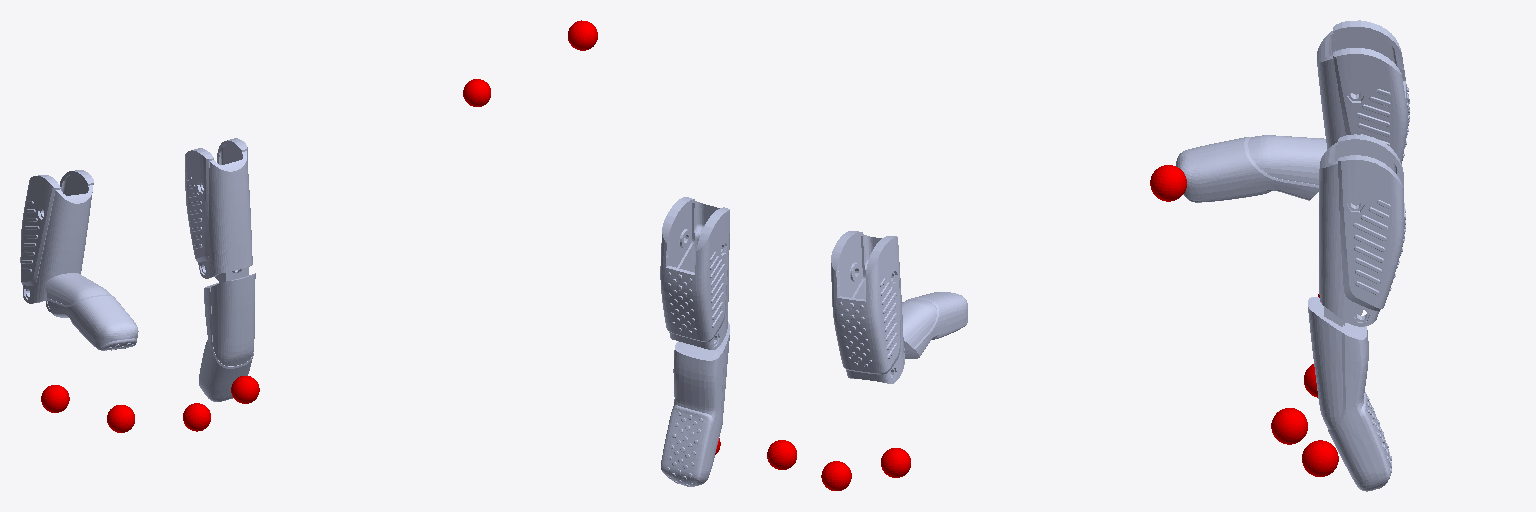
The robot description file, URDF, robot "inspire_floating":
<?xml version="1.0" ?>
<!-- inspire_hand_right.urdf with floating base (x,y,z,rx,ry,rz) for cuRobo collision check -->
<robot name="inspire_floating">
  <link name="world"/>
  <joint name="world_joint" type="fixed">
    <parent link="world"/>
    <child link="inspire_root0"/>
    <origin rpy="0 0 0" xyz="0 0 0"/>
  </joint>

  <link name="inspire_root0">
    <inertial>
      <origin rpy="0 0 0" xyz="0 0 0"/>
      <mass value="4.0"/>
      <inertia ixx="1e-3" ixy="0" ixz="0" iyy="1e-3" iyz="0" izz="1e-3"/>
    </inertial>
  </link>
  <link name="inspire_root1">
    <inertial><mass value="0.05"/><inertia ixx="1e-4" ixy="0" ixz="0" iyy="1e-4" iyz="0" izz="1e-4"/></inertial>
  </link>
  <link name="inspire_root2">
    <inertial><mass value="0.05"/><inertia ixx="1e-4" ixy="0" ixz="0" iyy="1e-4" iyz="0" izz="1e-4"/></inertial>
  </link>
  <link name="inspire_root3">
    <inertial><mass value="0.05"/><inertia ixx="1e-4" ixy="0" ixz="0" iyy="1e-4" iyz="0" izz="1e-4"/></inertial>
  </link>
  <link name="inspire_root4">
    <inertial><mass value="0.05"/><inertia ixx="1e-4" ixy="0" ixz="0" iyy="1e-4" iyz="0" izz="1e-4"/></inertial>
  </link>
  <link name="inspire_root5">
    <inertial><mass value="0.05"/><inertia ixx="1e-4" ixy="0" ixz="0" iyy="1e-4" iyz="0" izz="1e-4"/></inertial>
  </link>

  <joint name="x_joint" type="prismatic">
    <parent link="inspire_root0"/>
    <child link="inspire_root1"/>
    <axis xyz="1 0 0"/>
    <limit effort="100" lower="-50.0" upper="50.0" velocity="20"/>
  </joint>
  <joint name="y_joint" type="prismatic">
    <parent link="inspire_root1"/>
    <child link="inspire_root2"/>
    <axis xyz="0 1 0"/>
    <limit effort="100" lower="-50.0" upper="50.0" velocity="20"/>
  </joint>
  <joint name="z_joint" type="prismatic">
    <parent link="inspire_root2"/>
    <child link="inspire_root3"/>
    <axis xyz="0 0 1"/>
    <limit effort="100" lower="-50.0" upper="50.0" velocity="20"/>
  </joint>
  <joint name="x_rotation_joint" type="revolute">
    <parent link="inspire_root3"/>
    <child link="inspire_root4"/>
    <axis xyz="1 0 0"/>
    <limit effort="100" lower="-6.28" upper="6.28" velocity="20"/>
  </joint>
  <joint name="y_rotation_joint" type="revolute">
    <parent link="inspire_root4"/>
    <child link="inspire_root5"/>
    <axis xyz="0 1 0"/>
    <limit effort="100" lower="-6.28" upper="6.28" velocity="20"/>
  </joint>
  <joint name="z_rotation_joint" type="revolute">
    <parent link="inspire_root5"/>
    <child link="wrist"/>
    <axis xyz="0 0 1"/>
    <limit effort="100" lower="-6.28" upper="6.28" velocity="20"/>
  </joint>

  <!-- Left inspire hand -->
<link name="wrist" />

    <joint name="L_hand_base_joint" type="fixed">
      <origin xyz="0 0 0" rpy="0 0 0" />
      <parent link="wrist" />
      <child link="base_link" />
    </joint>
  
  <link name="base_link">
    <inertial>
      <origin xyz="-5.81855257230368E-05 0.0036855956860619 -0.0826153899028331" rpy="0 0 0" />
      <mass value="0.260034351097693" />
      <inertia ixx="0.000223659755666589" ixy="-1.13436481934473E-06" ixz="5.34309354519849E-07" iyy="0.000266799681483547" iyz="1.40944118648867E-05" izz="0.000132857769181899" />
    </inertial>
    <visual>
      <origin xyz="0 0 0" rpy="0 0 0" />
      <geometry>
        <mesh filename="./meshes/left_base_link.STL" />
      </geometry>
      <material name="">
        <color rgba="0.792156862745098 0.819607843137255 0.933333333333333 1" />
      </material>
    </visual>
    <collision>
      <origin xyz="0 0 0" rpy="0 0 0" />
      <geometry>
        <mesh filename="./meshes/left_base_link.STL" />
      </geometry>
    </collision>
  </link>
  <link name="left_thumb_1">
    <inertial>
      <origin xyz="0.00178423404495211 -0.000649404577309123 -0.0031358931043441" rpy="0 0 0" />
      <mass value="0.00115518743162309" />
      <inertia ixx="5.98912200501135E-08" ixy="-8.04315731947437E-09" ixz="-3.29346919841095E-09" iyy="4.07201234589857E-08" iyz="1.19872544716431E-09" izz="6.18161684388651E-08" />
    </inertial>
    <visual>
      <origin xyz="0 0 0" rpy="0 0 0" />
      <geometry>
        <mesh filename="./meshes/left_thumb_1.STL" />
      </geometry>
      <material name="">
        <color rgba="0.792156862745098 0.819607843137255 0.933333333333333 1" />
      </material>
    </visual>
    <collision>
      <origin xyz="0 0 0" rpy="0 0 0" />
      <geometry>
        <mesh filename="./meshes/left_thumb_1.STL" />
      </geometry>
    </collision>
  </link>
  <joint name="left_thumb_1_joint" type="revolute">
    <origin xyz="0.0269 -0.02101 -0.07075" rpy="0 0 0" />
    <parent link="base_link" />
    <child link="left_thumb_1" />
    <axis xyz="0 0 -1" />
    <limit lower="0" upper="1.15" effort="10" velocity="1" />
  </joint>
  <link name="left_thumb_2">
    <inertial>
      <origin xyz="0.0141077165126408 0.013272947664556 0.00905027694248729" rpy="0 0 0" />
      <mass value="0.016" />
      <inertia ixx="1.06585698719649E-06" ixy="-7.62263321516971E-08" ixz="2.95033226564006E-11" iyy="1.06558155578278E-06" iyz="1.55271585897891E-11" izz="1.39709651951733E-06" />
    </inertial>
    <visual>
      <origin xyz="0 0 0" rpy="0 0 0" />
      <geometry>
        <mesh filename="./meshes/left_thumb_2.STL" />
      </geometry>
      <material name="">
        <color rgba="0.792156862745098 0.819607843137255 0.933333333333333 1" />
      </material>
    </visual>
    <collision>
      <origin xyz="0 0 0" rpy="0 0 0" />
      <geometry>
        <mesh filename="./meshes/left_thumb_2.STL" />
      </geometry>
    </collision>
  </link>
  <joint name="left_thumb_2_joint" type="revolute">
    <origin xyz="0.0063016 -0.011924 -0.00125" rpy="-1.5708 0 -0.34907" />
    <parent link="left_thumb_1" />
    <child link="left_thumb_2" />
    <axis xyz="0 0 1" />
    <limit lower="0" upper="0.55" effort="10" velocity="1" />
  </joint>
  <link name="left_thumb_3">
    <inertial>
      <origin xyz="0.0175210608796189 -0.000458783419545392 0.00589186777098984" rpy="0 0 0" />
      <mass value="0.012" />
      <inertia ixx="4.67948369620491E-07" ixy="-4.4974688607358E-08" ixz="1.01425359574474E-11" iyy="3.98794196148187E-07" iyz="2.07037920898898E-10" izz="4.24723917424999E-07" />
    </inertial>
    <visual>
      <origin xyz="0 0 0" rpy="0 0 0" />
      <geometry>
        <mesh filename="./meshes/left_thumb_3.STL" />
      </geometry>
      <material name="">
        <color rgba="0.792156862745098 0.819607843137255 0.933333333333333 1" />
      </material>
    </visual>
    <collision>
      <origin xyz="0 0 0" rpy="0 0 0" />
      <geometry>
        <mesh filename="./meshes/left_thumb_3.STL" />
      </geometry>
    </collision>
  </link>
  <joint name="left_thumb_3_joint" type="revolute">
    <origin xyz="0.026828 0.02583 0.00315" rpy="0 0 0" />
    <parent link="left_thumb_2" />
    <child link="left_thumb_3" />
    <axis xyz="0 0 1" />
    <limit lower="0" upper="3.14" effort="10" velocity="1" />
    <mimic joint="left_thumb_2_joint" multiplier="0.60" offset="0" />
  </joint>
  <link name="left_thumb_4">
    <inertial>
      <origin xyz="0.0159972574626049 0.0063105797700872 0.0073433144647696" rpy="0 0 0" />
      <mass value="0.01" />
      <inertia ixx="6.4362640059723E-07" ixy="-2.57376746969386E-07" ixz="-8.63129696542143E-10" iyy="7.63678708562786E-07" iyz="-7.21288836303217E-10" izz="9.2570163408105E-07" />
    </inertial>
    <visual>
      <origin xyz="0 0 0" rpy="0 0 0" />
      <geometry>
        <mesh filename="./meshes/left_thumb_4.STL" />
      </geometry>
      <material name="">
        <color rgba="0.792156862745098 0.819607843137255 0.933333333333333 1" />
      </material>
    </visual>
    <collision>
      <origin xyz="0 0 0" rpy="0 0 0" />
      <geometry>
        <mesh filename="./meshes/left_thumb_4.STL" />
      </geometry>
    </collision>
  </link>
  <joint name="left_thumb_4_joint" type="revolute">
    <origin xyz="0.027027 0.0069965 -0.00145" rpy="0 0 0" />
    <parent link="left_thumb_3" />
    <child link="left_thumb_4" />
    <axis xyz="0 0 1" />
    <limit lower="0" upper="3.14" effort="10" velocity="1" />
    <mimic joint="left_thumb_2_joint" multiplier="0.8" offset="0" />
  </joint>
  <link name="left_index_1">
    <inertial>
      <origin xyz="-0.00183599258071257 0.0123544163382434 -0.00665152565125451" rpy="0 0 0" />
      <mass value="0.0071995003148682" />
      <inertia ixx="1.28363093823079E-06" ixy="4.22091506924093E-08" ixz="-1.1741465013013E-12" iyy="5.79447850871435E-07" iyz="-8.63816965731366E-11" izz="1.32914845722975E-06" />
    </inertial>
    <visual>
      <origin xyz="0 0 0" rpy="0 0 0" />
      <geometry>
        <mesh filename="./meshes/left_index_1.STL" />
      </geometry>
      <material name="">
        <color rgba="0.792156862745098 0.819607843137255 0.933333333333333 1" />
      </material>
    </visual>
    <collision>
      <origin xyz="0 0 0" rpy="0 0 0" />
      <geometry>
        <mesh filename="./meshes/left_index_1.STL" />
      </geometry>
    </collision>
  </link>
  <joint name="left_index_1_joint" type="revolute">
    <origin xyz="0.025387 -0.00056467 -0.15686" rpy="-1.6057 0 1.5708" />
    <parent link="base_link" />
    <child link="left_index_1" />
    <axis xyz="0 0 1" />
    <limit lower="0" upper="1.6" effort="10" velocity="1" />
  </joint>
  <link name="left_index_2">
    <inertial>
      <origin xyz="0.000405420051948283 0.0257003783460073 -0.00610830787560272" rpy="0 0 0" />
      <mass value="0.00968688267109518" />
      <inertia ixx="2.25563043691857E-06" ixy="4.11282885240034E-07" ixz="3.87338024122588E-10" iyy="3.91279806505403E-07" iyz="-2.76559043550419E-09" izz="2.30247359295784E-06" />
    </inertial>
    <visual>
      <origin xyz="0 0 0" rpy="0 0 0" />
      <geometry>
        <mesh filename="./meshes/left_index_2.STL" />
      </geometry>
      <material name="">
        <color rgba="0.792156862745098 0.819607843137255 0.933333333333333 1" />
      </material>
    </visual>
    <collision>
      <origin xyz="0 0 0" rpy="0 0 0" />
      <geometry>
        <mesh filename="./meshes/left_index_2.STL" />
      </geometry>
    </collision>
  </link>
  <joint name="left_index_2_joint" type="revolute">
    <origin xyz="-0.0016312 0.032734 -0.00055" rpy="0 0 0" />
    <parent link="left_index_1" />
    <child link="left_index_2" />
    <axis xyz="0 0 1" />
    <limit lower="0" upper="3.14" effort="10" velocity="1.1" />
    <mimic joint="left_index_1_joint" multiplier="1.05" offset="0" />
  </joint>
  <link name="left_middle_1">
    <inertial>
      <origin xyz="-0.00229271394242232 0.0122778605414752 -0.00665151068667683" rpy="0 0 0" />
      <mass value="0.00719950322487974" />
      <inertia ixx="1.27951858905779E-06" ixy="6.81813021711596E-08" ixz="1.58551121583499E-12" iyy="5.83543537428452E-07" iyz="-8.56179612608701E-11" izz="1.32913234511164E-06" />
    </inertial>
    <visual>
      <origin xyz="0 0 0" rpy="0 0 0" />
      <geometry>
        <mesh filename="./meshes/left_middle_1.STL" />
      </geometry>
      <material name="">
        <color rgba="0.792156862745098 0.819607843137255 0.933333333333333 1" />
      </material>
    </visual>
    <collision>
      <origin xyz="0 0 0" rpy="0 0 0" />
      <geometry>
        <mesh filename="./meshes/left_middle_1.STL" />
      </geometry>
    </collision>
  </link>
  <joint name="left_middle_1_joint" type="revolute">
    <origin xyz="0.0037996 -0.00056467 -0.157" rpy="-1.5708 0 1.5708" />
    <parent link="base_link" />
    <child link="left_middle_1" />
    <axis xyz="0 0 1" />
    <limit lower="0" upper="1.6" effort="10" velocity="1" />
  </joint>
  <link name="left_middle_2">
    <inertial>
      <origin xyz="7.51983994427274E-05 0.027448753770842 -0.00610022997575017" rpy="0 0 0" />
      <mass value="0.0104611931926301" />
      <inertia ixx="2.75831931773332E-06" ixy="4.66412841401028E-07" ixz="7.35766561775226E-12" iyy="4.22466538741155E-07" iyz="-1.79608426686769E-11" izz="2.80722617348706E-06" />
    </inertial>
    <visual>
      <origin xyz="0 0 0" rpy="0 0 0" />
      <geometry>
        <mesh filename="./meshes/left_middle_2.STL" />
      </geometry>
      <material name="">
        <color rgba="0.792156862745098 0.819607843137255 0.933333333333333 1" />
      </material>
    </visual>
    <collision>
      <origin xyz="0 0 0" rpy="0 0 0" />
      <geometry>
        <mesh filename="./meshes/left_middle_2.STL" />
      </geometry>
    </collision>
  </link>
  <joint name="left_middle_2_joint" type="revolute">
    <origin xyz="-0.0028436 0.032651 -0.00055" rpy="0 0 0" />
    <parent link="left_middle_1" />
    <child link="left_middle_2" />
    <axis xyz="0 0 1" />
    <limit lower="0" upper="3.14" effort="10" velocity="1.1" />
    <mimic joint="left_middle_1_joint" multiplier="0.88" offset="0.15" />
  </joint>
  <link name="left_ring_1">
    <inertial>
      <origin xyz="-0.00240530428455066 0.0122563079467745 -0.00665150968297497" rpy="0 0 0" />
      <mass value="0.00719949770218712" />
      <inertia ixx="1.27820682409824E-06" ixy="7.45572429780093E-08" ixz="2.25718181808859E-12" iyy="5.84853511073517E-07" iyz="-8.56222330411309E-11" izz="1.32913088941838E-06" />
    </inertial>
    <visual>
      <origin xyz="0 0 0" rpy="0 0 0" />
      <geometry>
        <mesh filename="./meshes/left_ring_1.STL" />
      </geometry>
      <material name="">
        <color rgba="0.792156862745098 0.819607843137255 0.933333333333333 1" />
      </material>
    </visual>
    <collision>
      <origin xyz="0 0 0" rpy="0 0 0" />
      <geometry>
        <mesh filename="./meshes/left_ring_1.STL" />
      </geometry>
    </collision>
  </link>
  <joint name="left_ring_1_joint" type="revolute">
    <origin xyz="-0.017813 -0.00056467 -0.15614" rpy="-1.5184 0 1.5708" />
    <parent link="base_link" />
    <child link="left_ring_1" />
    <axis xyz="0 0 1" />
    <limit lower="0" upper="1.6" effort="10" velocity="1" />
  </joint>
  <link name="left_ring_2">
    <inertial>
      <origin xyz="0.000667145407605998 0.0256949163202511 -0.00610829894053159" rpy="0 0 0" />
      <mass value="0.00968685177133057" />
      <inertia ixx="2.26381138740299E-06" ixy="3.92210300202205E-07" ixz="3.58404653503583E-10" iyy="3.83095000534084E-07" iyz="-2.77027363965469E-09" izz="2.30247104599333E-06" />
    </inertial>
    <visual>
      <origin xyz="0 0 0" rpy="0 0 0" />
      <geometry>
        <mesh filename="./meshes/left_ring_2.STL" />
      </geometry>
      <material name="">
        <color rgba="0.792156862745098 0.819607843137255 0.933333333333333 1" />
      </material>
    </visual>
    <collision>
      <origin xyz="0 0 0" rpy="0 0 0" />
      <geometry>
        <mesh filename="./meshes/left_ring_2.STL" />
      </geometry>
    </collision>
  </link>
  <joint name="left_ring_2_joint" type="revolute">
    <origin xyz="-0.0031431 0.032624 -0.00055" rpy="0 0 0" />
    <parent link="left_ring_1" />
    <child link="left_ring_2" />
    <axis xyz="0 0 1" />
    <limit lower="0" upper="3.14" effort="10" velocity="1.1" />
    <mimic joint="left_ring_1_joint" multiplier="1.05" offset="0" />
  </joint>
  <link name="left_little_1">
    <inertial>
      <origin xyz="-0.00316889023513399 0.0120814769898197 -0.00665148964848" rpy="0 0 0" />
      <mass value="0.0071994553320001" />
      <inertia ixx="1.26614239360362E-06" ixy="1.17349328114653E-07" ixz="6.69925886240907E-12" iyy="5.96905140854994E-07" iyz="-8.54914063893311E-11" izz="1.32912203576944E-06" />
    </inertial>
    <visual>
      <origin xyz="0 0 0" rpy="0 0 0" />
      <geometry>
        <mesh filename="./meshes/left_little_1.STL" />
      </geometry>
      <material name="">
        <color rgba="0.792156862745098 0.819607843137255 0.933333333333333 1" />
      </material>
    </visual>
    <collision>
      <origin xyz="0 0 0" rpy="0 0 0" />
      <geometry>
        <mesh filename="./meshes/left_little_1.STL" />
      </geometry>
    </collision>
  </link>
  <joint name="left_little_1_joint" type="revolute">
    <origin xyz="-0.039144 -0.00056467 -0.15226" rpy="-1.4661 0 1.5708" />
    <parent link="base_link" />
    <child link="left_little_1" />
    <axis xyz="0 0 1" />
    <limit lower="0" upper="1.6" effort="10" velocity="1" />
  </joint>
  <link name="left_little_2">
    <inertial>
      <origin xyz="0.00469503836926433 0.020441957551037 -0.0061004930536056" rpy="0 0 0" />
      <mass value="0.00759267726265222" />
      <inertia ixx="1.27661762368947E-06" ixy="7.27034842413144E-08" ixz="1.62724400979504E-12" iyy="2.31536498425727E-07" iyz="-9.71604458446237E-12" izz="1.23907231734916E-06" />
    </inertial>
    <visual>
      <origin xyz="0 0 0" rpy="0 0 0" />
      <geometry>
        <mesh filename="./meshes/left_little_2.STL" />
      </geometry>
      <material name="">
        <color rgba="0.792156862745098 0.819607843137255 0.933333333333333 1" />
      </material>
    </visual>
    <collision>
      <origin xyz="0 0 0" rpy="0 0 0" />
      <geometry>
        <mesh filename="./meshes/left_little_2.STL" />
      </geometry>
    </collision>
  </link>
  <joint name="left_little_2_joint" type="revolute">
    <origin xyz="-0.005182 0.032363 -0.00055" rpy="0 0 0" />
    <parent link="left_little_1" />
    <child link="left_little_2" />
    <axis xyz="0 0 1" />
    <limit lower="0" upper="3.14" effort="10" velocity="1.2" />
    <mimic joint="left_little_1_joint" multiplier="1.18" offset="0" />
  </joint>
  <!-- Fingertip dummy links -->
  <link name="left_thumb_tip"><inertial><origin rpy="0 0 0" xyz="0 0 0"/><mass value="0.001"/><inertia ixx="1e-9" ixy="0" ixz="0" iyy="1e-9" iyz="0" izz="1e-9"/></inertial><visual><geometry><sphere radius="0.005"/></geometry><material name="tip"><color rgba="1 0 0 1"/></material></visual></link>
  <joint name="left_thumb_tip_joint" type="fixed"><origin rpy="0 0 0" xyz="0.0208 0.0145 0.006"/><parent link="left_thumb_4"/><child link="left_thumb_tip"/></joint>
  <link name="left_index_tip"><inertial><origin rpy="0 0 0" xyz="0 0 0"/><mass value="0.001"/><inertia ixx="1e-9" ixy="0" ixz="0" iyy="1e-9" iyz="0" izz="1e-9"/></inertial><visual><geometry><sphere radius="0.005"/></geometry><material name="tip"><color rgba="1 0 0 1"/></material></visual></link>
  <joint name="left_index_tip_joint" type="fixed"><origin rpy="0 0 0" xyz="-0.008 0.045 -0.00722"/><parent link="left_index_2"/><child link="left_index_tip"/></joint>
  <link name="left_middle_tip"><inertial><origin rpy="0 0 0" xyz="0 0 0"/><mass value="0.001"/><inertia ixx="1e-9" ixy="0" ixz="0" iyy="1e-9" iyz="0" izz="1e-9"/></inertial><visual><geometry><sphere radius="0.005"/></geometry><material name="tip"><color rgba="1 0 0 1"/></material></visual></link>
  <joint name="left_middle_tip_joint" type="fixed"><origin rpy="0 0 0" xyz="-0.008 0.048 -0.00719"/><parent link="left_middle_2"/><child link="left_middle_tip"/></joint>
  <link name="left_ring_tip"><inertial><origin rpy="0 0 0" xyz="0 0 0"/><mass value="0.001"/><inertia ixx="1e-9" ixy="0" ixz="0" iyy="1e-9" iyz="0" izz="1e-9"/></inertial><visual><geometry><sphere radius="0.005"/></geometry><material name="tip"><color rgba="1 0 0 1"/></material></visual></link>
  <joint name="left_ring_tip_joint" type="fixed"><origin rpy="0 0 0" xyz="-0.006 0.045 -0.00722"/><parent link="left_ring_2"/><child link="left_ring_tip"/></joint>
  <link name="left_little_tip"><inertial><origin rpy="0 0 0" xyz="0 0 0"/><mass value="0.001"/><inertia ixx="1e-9" ixy="0" ixz="0" iyy="1e-9" iyz="0" izz="1e-9"/></inertial><visual><geometry><sphere radius="0.005"/></geometry><material name="tip"><color rgba="1 0 0 1"/></material></visual></link>
  <joint name="left_little_tip_joint" type="fixed"><origin rpy="0 0 0" xyz="-0.0004 0.037 -0.00719"/><parent link="left_little_2"/><child link="left_little_tip"/></joint>
</robot>

--- Facts derived from the render (not from the file) ---
Views: 3 orthographic renders of the robot side by side, from view 1: azimuth 30°, elevation 25°; view 2: azimuth 150°, elevation 25°; view 3: azimuth 270°, elevation 25°.
Model inspire_floating with 26 links and 25 joints (15 revolute, 3 prismatic, 7 fixed), rooted at world, posed every joint at zero.
Links seen in each view (by area): view 1: left_index_1, left_little_1, left_index_2, left_little_2, left_index_tip, left_little_tip, left_middle_tip, left_ring_tip, left_thumb_tip; view 2: left_little_1, left_index_1, left_index_2, left_little_2, left_little_tip, left_ring_tip, left_middle_tip, left_thumb_tip; view 3: left_index_1, left_little_1, left_index_2, left_little_2, left_thumb_tip, left_index_tip, left_middle_tip.
Boxes of the visible links, left/top/right/bottom form: left_index_1: left=185, top=138, right=252, bottom=278; left_little_1: left=20, top=170, right=93, bottom=303; left_index_2: left=199, top=267, right=255, bottom=401; left_little_2: left=46, top=273, right=138, bottom=350; left_index_tip: left=231, top=376, right=259, bottom=403; left_little_tip: left=41, top=385, right=69, bottom=412; left_middle_tip: left=183, top=403, right=210, bottom=431; left_ring_tip: left=107, top=405, right=134, bottom=432; left_thumb_tip: left=463, top=79, right=490, bottom=106; left_little_1: left=831, top=231, right=904, bottom=383; left_index_1: left=660, top=197, right=729, bottom=349; left_index_2: left=661, top=322, right=729, bottom=486; left_little_2: left=902, top=292, right=967, bottom=364; left_little_tip: left=881, top=448, right=910, bottom=477; left_ring_tip: left=821, top=461, right=851, bottom=490; left_middle_tip: left=767, top=440, right=796, bottom=469; left_thumb_tip: left=568, top=20, right=597, bottom=50; left_index_1: left=1319, top=134, right=1405, bottom=326; left_little_1: left=1317, top=20, right=1409, bottom=163; left_index_2: left=1308, top=297, right=1391, bottom=491; left_little_2: left=1176, top=135, right=1326, bottom=202; left_thumb_tip: left=1150, top=165, right=1186, bottom=201; left_index_tip: left=1302, top=440, right=1338, bottom=476; left_middle_tip: left=1271, top=408, right=1307, bottom=444.
Bounding box of the posed robot: 0.1553 × 0.0702 × 0.1286 m (x, y, z).
4 mesh visuals loaded from 13 distinct referenced files (4 binary STL); not drawn: 9 (reference not matched to a file when rendering).
